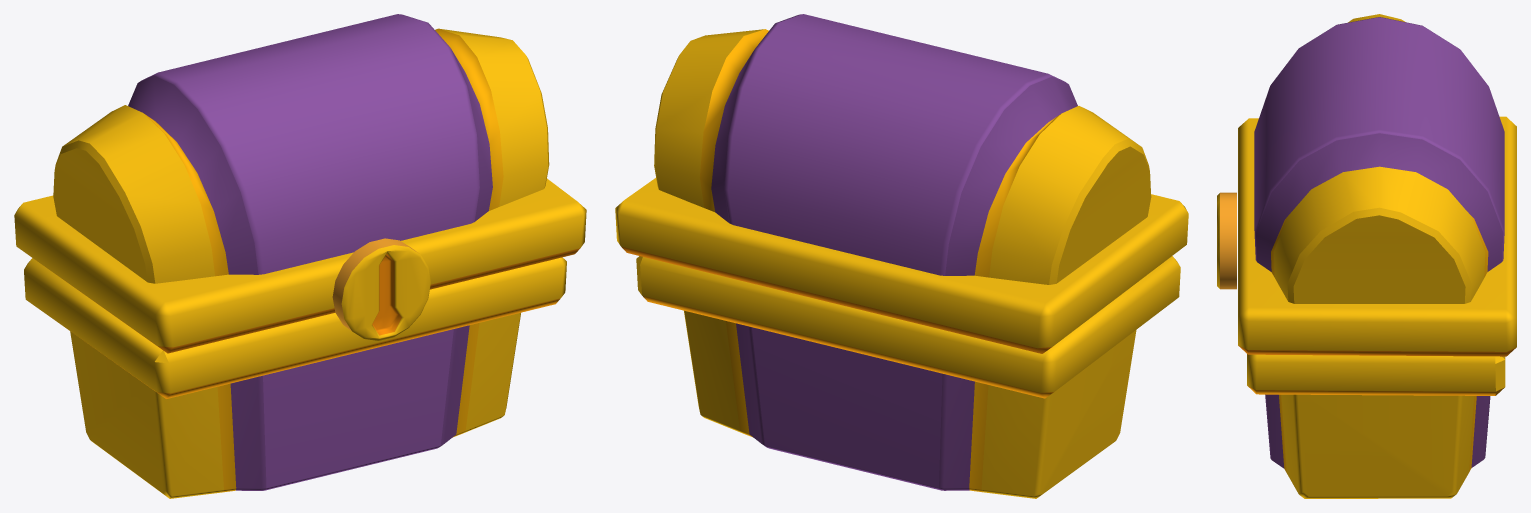
The model's file is Chest.fbx.
3 views of the same model, side by side, from view 1: azimuth 30°, elevation 25°; view 2: azimuth 150°, elevation 25°; view 3: azimuth 270°, elevation 25° (orthographic). The views are drawn at different scales.
Parts seen in each view (by area): view 1: Open, Body; view 2: Open, Body; view 3: Open, Body.
Part boxes in pixels (<box>): Open: <box>14,14,586,353</box>; Body: <box>24,257,566,498</box>; Open: <box>615,14,1188,353</box>; Body: <box>636,256,1180,498</box>; Open: <box>1217,14,1516,356</box>; Body: <box>1247,354,1505,498</box>.
Size of the model in its own units: 110 by 90.17 by 69.52.
